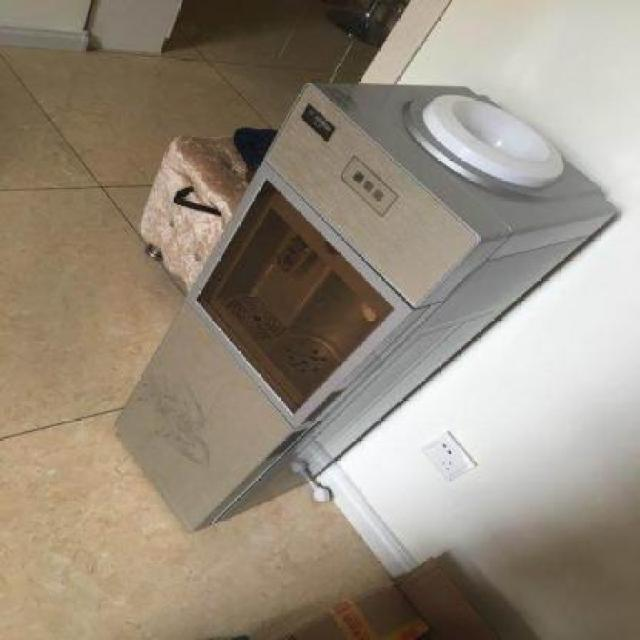cooler: (117, 80, 620, 531)
